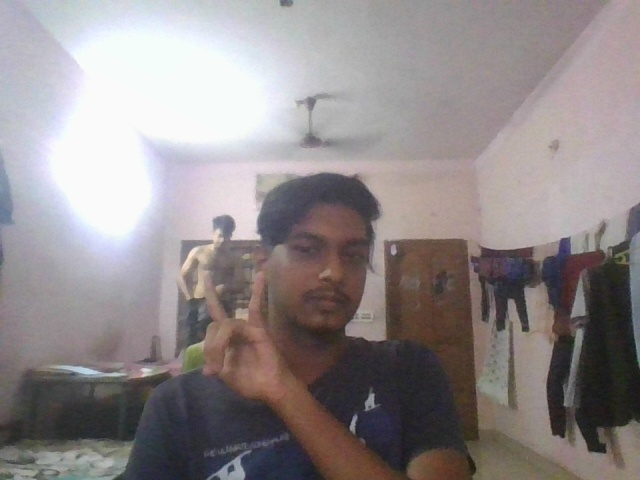iloveyou: (199, 269, 284, 408)
